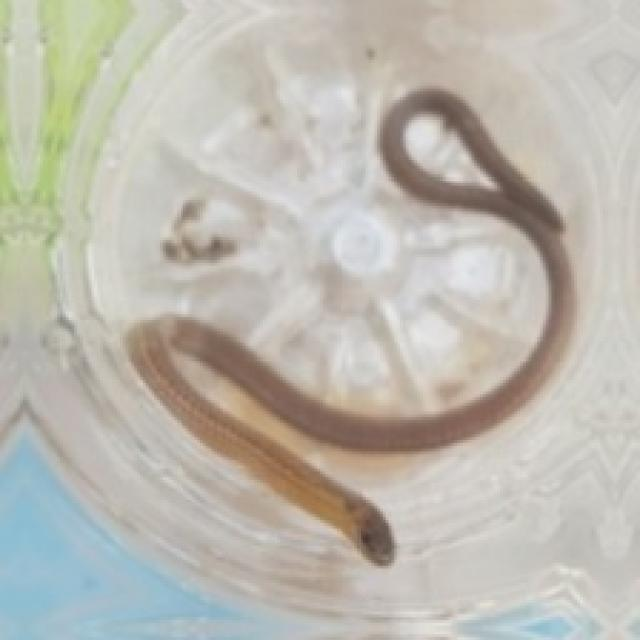gervais worm snake: (126, 89, 571, 563)
